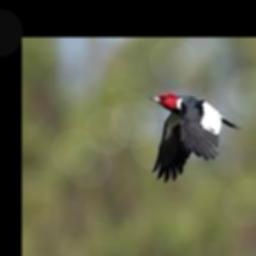Woodpecker: (148, 92, 241, 182)
